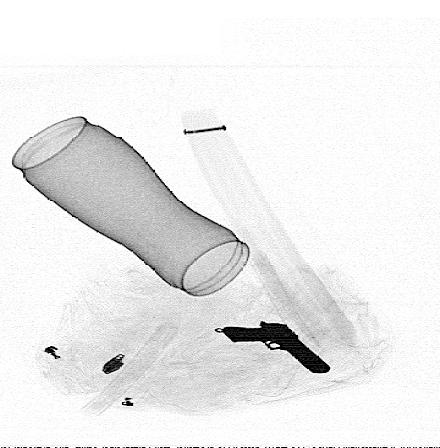Gun: (222, 320, 331, 372)
